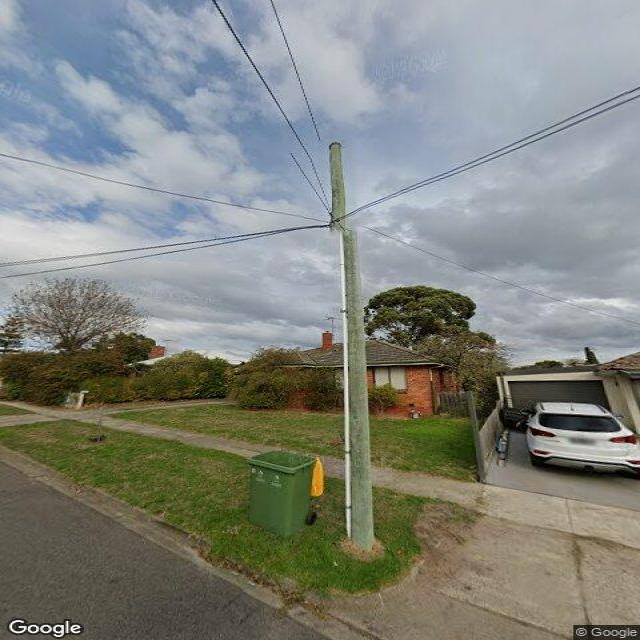timber-pole: (328, 142, 373, 562)
